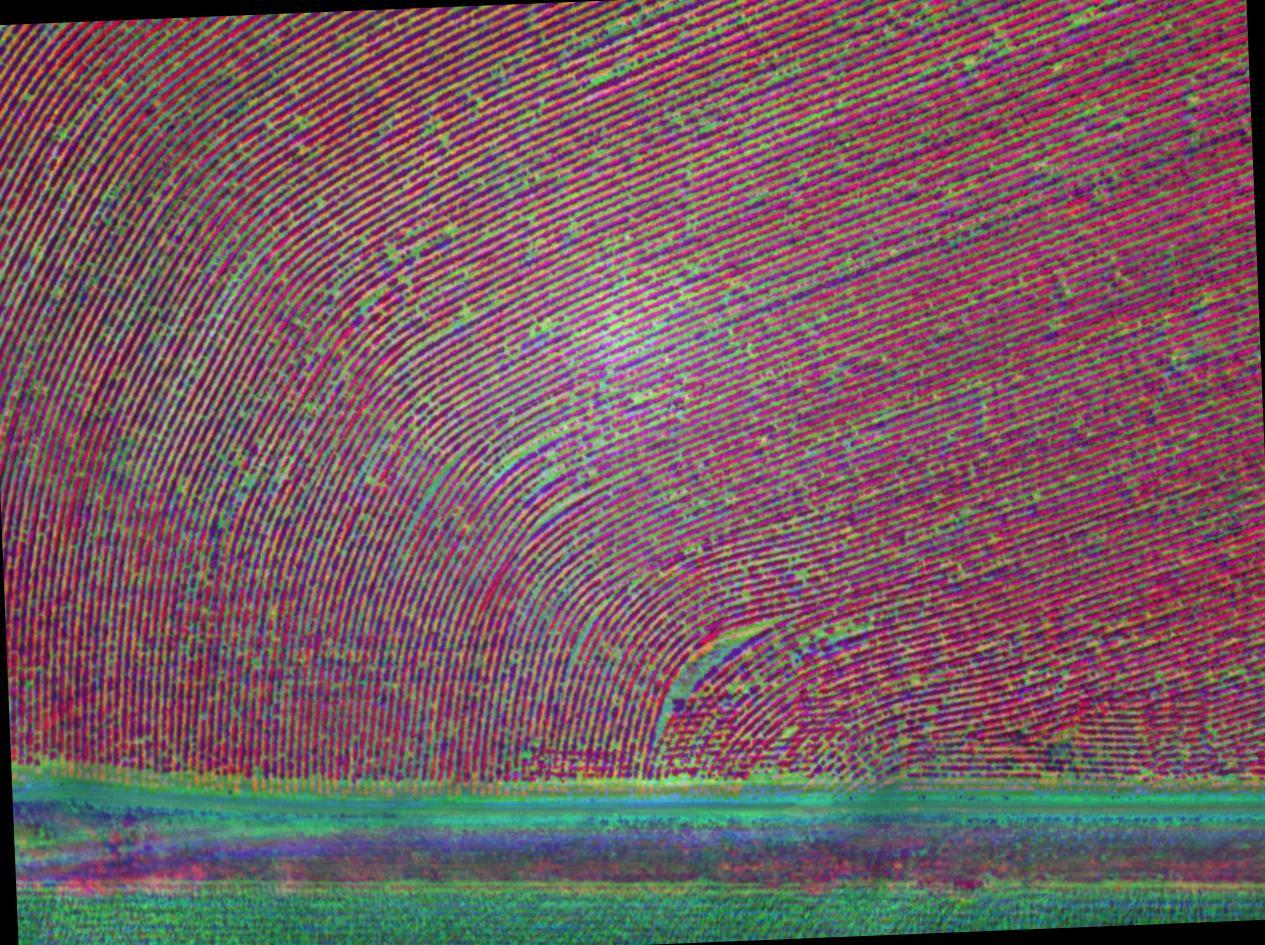dc: (96, 158, 236, 312), (96, 358, 224, 480), (511, 418, 610, 545), (561, 290, 663, 362), (588, 18, 678, 85)
